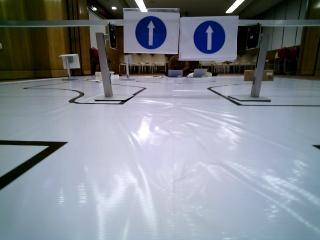straight: (127, 6, 179, 54), (179, 19, 236, 58)
